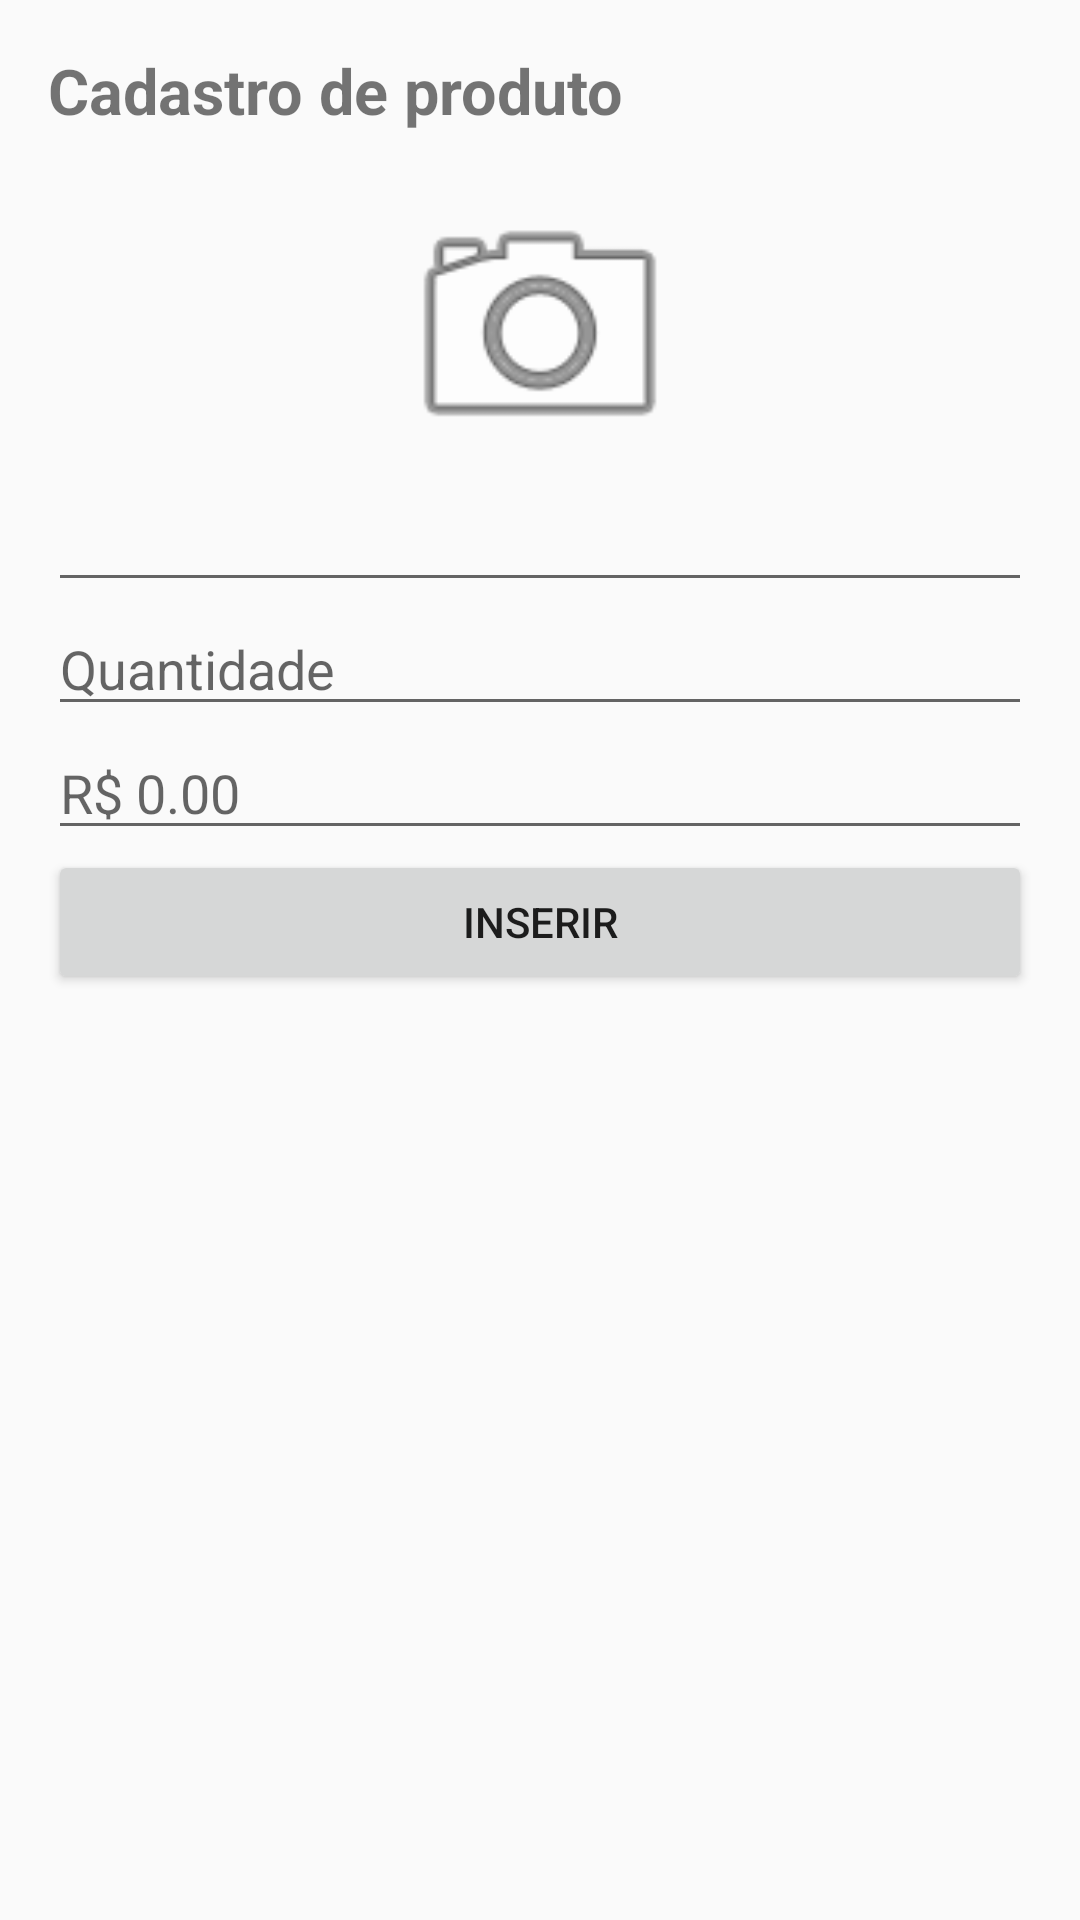

Point at icon controls on the screen. Image size 1080 × 1920, points as [x,y].
camera: [540,323]
